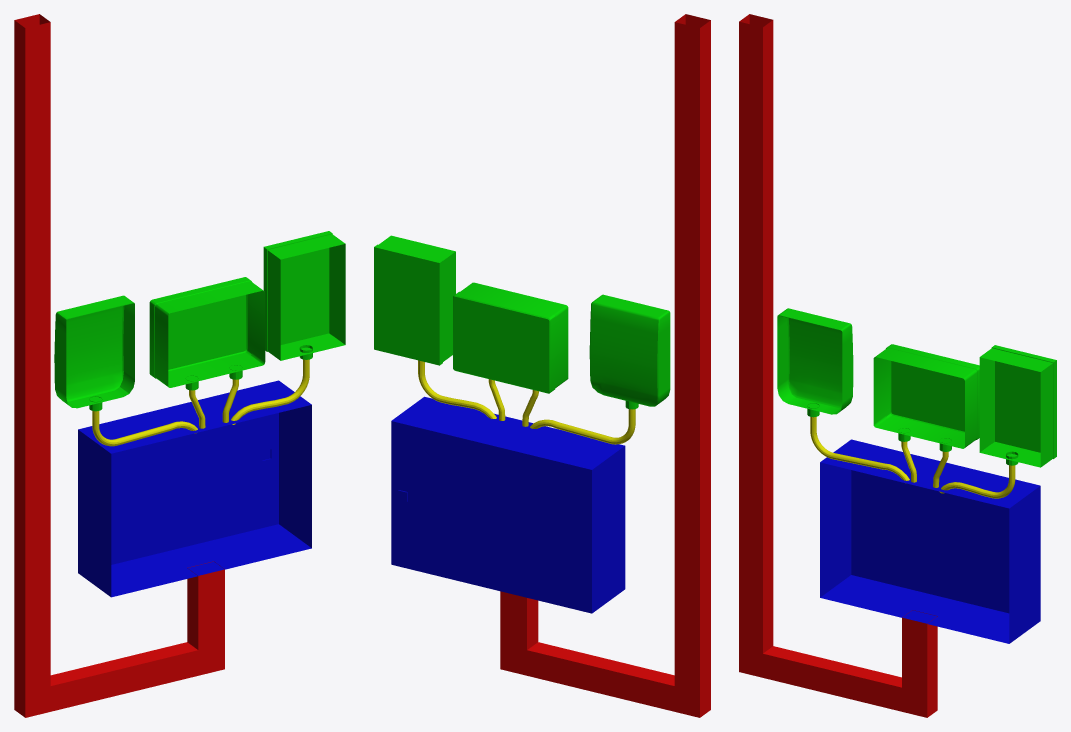
File: Fuse Box.fbx
3 renders of one model, left to right at view 1: azimuth 30°, elevation 25°; view 2: azimuth 150°, elevation 25°; view 3: azimuth 330°, elevation 25°, orthographic. The views are drawn at different scales.
Parts seen in each view (by area): view 1: Cube; view 2: Cube; view 3: Cube.
Boxes of the visible parts, x1=… form: Cube: x1=14, y1=14, x2=345, y2=717; Cube: x1=374, y1=14, x2=710, y2=717; Cube: x1=739, y1=14, x2=1056, y2=717.
Size of the model in its own units: 45.15 by 92.89 by 8.29.
